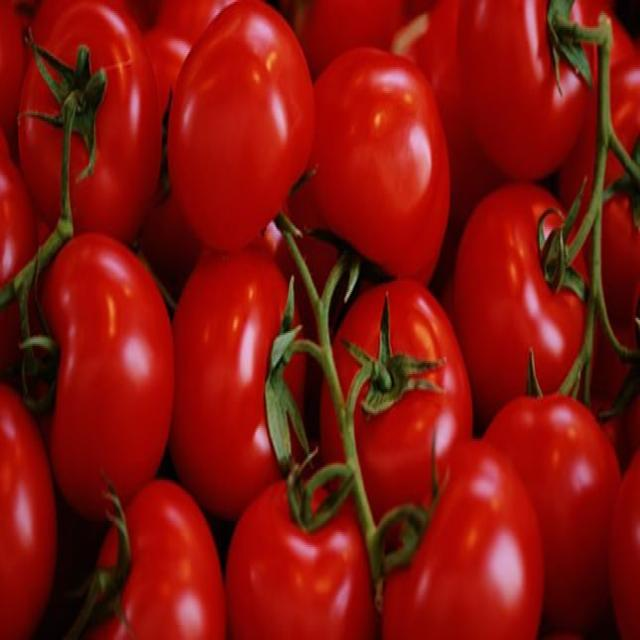kirmizi: (10, 16, 608, 622)
